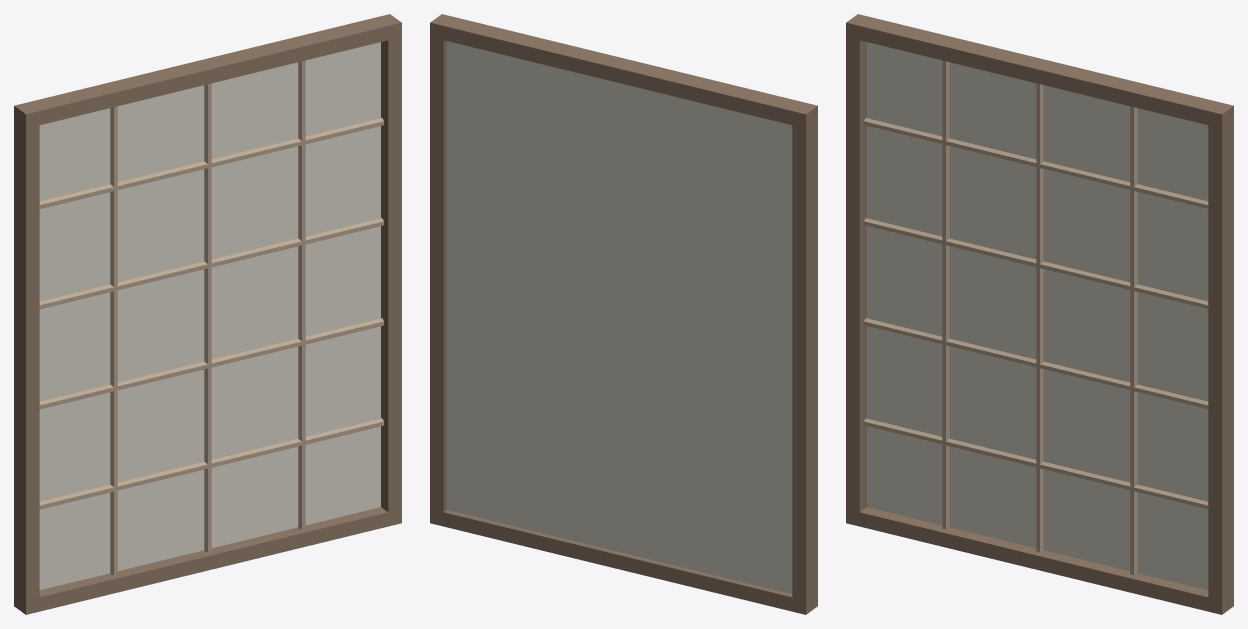
File: arch_window_lattice_square.glb
The picture shows the model from 3 angles, left to right: view 1: azimuth 30°, elevation 25°; view 2: azimuth 150°, elevation 25°; view 3: azimuth 330°, elevation 25°; orthographic projection.
Visible parts, largest first — view 1: arch_window_lattice_square/window_square_paper_00011, arch_window_lattice_square/window_square_frame_stile_00000, arch_window_lattice_square/window_square_frame_stile_00001, arch_window_lattice_square/window_square_frame_rail_00003, arch_window_lattice_square/window_square_frame_rail_00002, arch_window_lattice_square/square_mullion_v_00005, arch_window_lattice_square/square_mullion_v_00006, arch_window_lattice_square/square_mullion_v_00004, arch_window_lattice_square/square_transom_h_00008, arch_window_lattice_square/square_transom_h_00009, arch_window_lattice_square/square_transom_h_00007, arch_window_lattice_square/square_transom_h_00010; view 2: arch_window_lattice_square/window_square_paper_00011, arch_window_lattice_square/window_square_frame_stile_00000, arch_window_lattice_square/window_square_frame_rail_00003, arch_window_lattice_square/window_square_frame_stile_00001, arch_window_lattice_square/window_square_frame_rail_00002; view 3: arch_window_lattice_square/window_square_paper_00011, arch_window_lattice_square/window_square_frame_stile_00001, arch_window_lattice_square/window_square_frame_stile_00000, arch_window_lattice_square/window_square_frame_rail_00003, arch_window_lattice_square/window_square_frame_rail_00002, arch_window_lattice_square/square_mullion_v_00005, arch_window_lattice_square/square_mullion_v_00004, arch_window_lattice_square/square_mullion_v_00006, arch_window_lattice_square/square_transom_h_00008, arch_window_lattice_square/square_transom_h_00007, arch_window_lattice_square/square_transom_h_00010, arch_window_lattice_square/square_transom_h_00009.
Part boxes in pixels (x1,y1,x2,y2): arch_window_lattice_square/window_square_paper_00011: (39, 42, 380, 590); arch_window_lattice_square/window_square_frame_stile_00000: (14, 102, 39, 614); arch_window_lattice_square/window_square_frame_stile_00001: (377, 14, 401, 526); arch_window_lattice_square/window_square_frame_rail_00003: (28, 17, 388, 124); arch_window_lattice_square/window_square_frame_rail_00002: (39, 507, 388, 611); arch_window_lattice_square/square_mullion_v_00005: (204, 83, 211, 552); arch_window_lattice_square/square_mullion_v_00006: (298, 60, 305, 529); arch_window_lattice_square/square_mullion_v_00004: (110, 106, 117, 574); arch_window_lattice_square/square_transom_h_00008: (39, 318, 383, 409); arch_window_lattice_square/square_transom_h_00009: (39, 218, 383, 309); arch_window_lattice_square/square_transom_h_00007: (39, 418, 383, 509); arch_window_lattice_square/square_transom_h_00010: (39, 118, 383, 208); arch_window_lattice_square/window_square_paper_00011: (447, 41, 792, 593); arch_window_lattice_square/window_square_frame_stile_00000: (792, 102, 817, 614); arch_window_lattice_square/window_square_frame_rail_00003: (443, 17, 803, 124); arch_window_lattice_square/window_square_frame_stile_00001: (430, 14, 454, 526); arch_window_lattice_square/window_square_frame_rail_00002: (443, 510, 792, 611); arch_window_lattice_square/window_square_paper_00011: (867, 42, 1208, 590); arch_window_lattice_square/window_square_frame_stile_00001: (1208, 102, 1233, 614); arch_window_lattice_square/window_square_frame_stile_00000: (846, 14, 870, 526); arch_window_lattice_square/window_square_frame_rail_00003: (859, 17, 1219, 124); arch_window_lattice_square/window_square_frame_rail_00002: (859, 507, 1208, 611); arch_window_lattice_square/square_mullion_v_00005: (1036, 83, 1043, 552); arch_window_lattice_square/square_mullion_v_00004: (942, 60, 949, 529); arch_window_lattice_square/square_mullion_v_00006: (1130, 106, 1137, 574); arch_window_lattice_square/square_transom_h_00008: (864, 318, 1208, 409); arch_window_lattice_square/square_transom_h_00007: (864, 418, 1208, 509); arch_window_lattice_square/square_transom_h_00010: (864, 118, 1208, 208); arch_window_lattice_square/square_transom_h_00009: (864, 218, 1208, 309).
Size of the model in its own units: 1.1 by 1.4 by 0.06.
